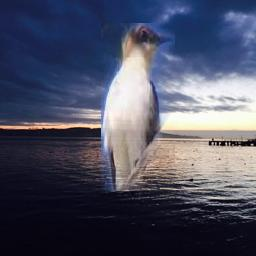Cuckoo: (101, 23, 175, 191)
